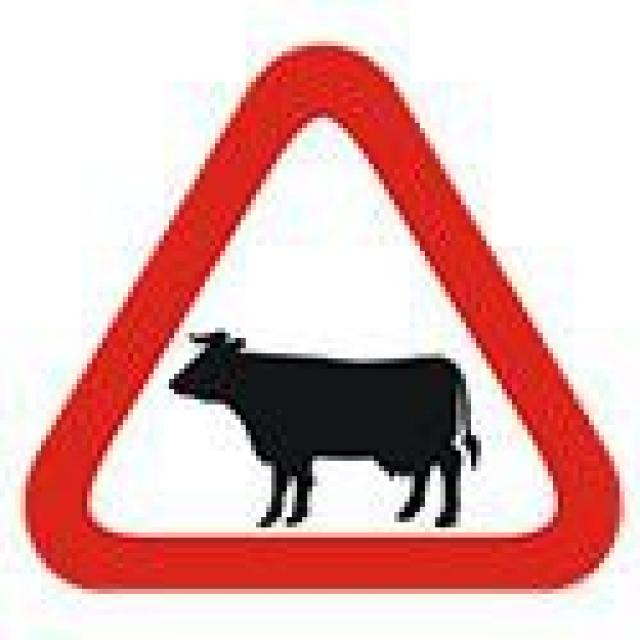cattle: (46, 37, 631, 611)
